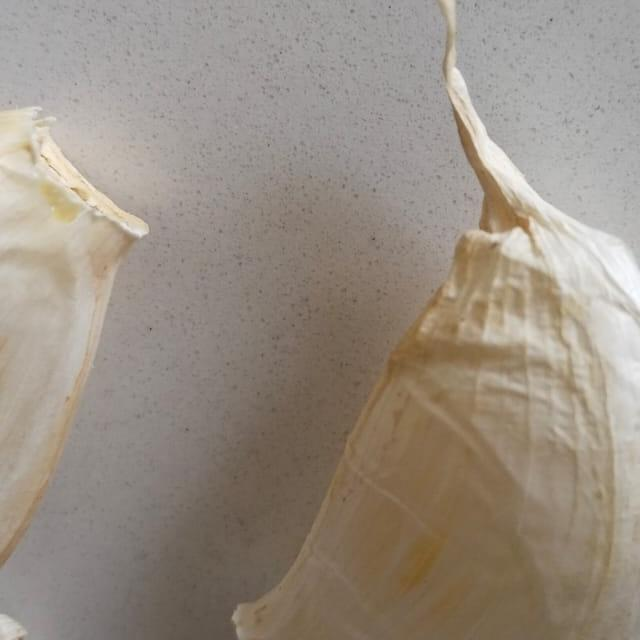garlic: (210, 10, 640, 640), (0, 35, 148, 640)
